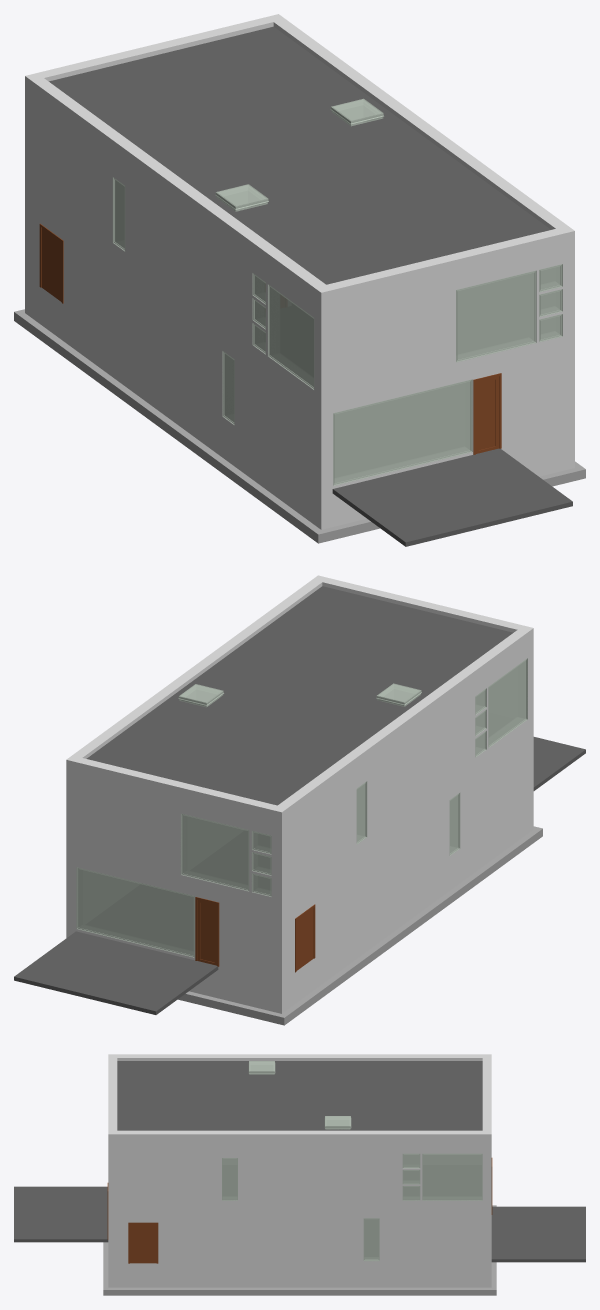
File: Duplex_A_20110907_optimized_OUT.dae
The picture shows the model from 3 angles, top to bottom: view 1: azimuth 30°, elevation 25°; view 2: azimuth 150°, elevation 25°; view 3: azimuth 270°, elevation 25°; orthographic projection. The views are drawn at different scales.
Parts seen in each view (by area): view 1: product-ddaca082-9edd-4829-a689-a1a58a1761d2-body, product-9808fd7f-dc48-478e-9217-628e833d7af9-body, product-9808fd7f-dc48-478e-9217-628e833d5659-body, product-9808fd7f-dc48-478e-9217-628e833d5611-body, product-4c8d2570-3244-4e75-8237-a4372a40e878-body, product-9808fd7f-dc48-478e-9217-628e833d7d42-body, product-9808fd7f-dc48-478e-9217-628e833d4385-body, product-6b61ce71-1a7a-473c-8f87-4262e0bdb2de-body, product-2da40d62-4698-436c-a2c3-95c49bb70d41-body, product-2da40d62-4698-436c-a2c3-95c49bb70ca4-body, product-6b61ce71-1a7a-473c-8f87-4262e0bdcfa0-body, product-2da40d62-4698-436c-a2c3-95c49bb70cfa-body (+12 smaller); view 2: product-ddaca082-9edd-4829-a689-a1a58a1761d2-body, product-9808fd7f-dc48-478e-9217-628e833d7af9-body, product-9808fd7f-dc48-478e-9217-628e833d5659-body, product-9808fd7f-dc48-478e-9217-628e833d568d-body, product-4c8d2570-3244-4e75-8237-a4372a40e82b-body, product-9808fd7f-dc48-478e-9217-628e833d7df1-body, product-9808fd7f-dc48-478e-9217-628e833d4385-body, product-6b61ce71-1a7a-473c-8f87-4262e0bdb1c2-body, product-2da40d62-4698-436c-a2c3-95c49bb70d41-body, product-2da40d62-4698-436c-a2c3-95c49bb70c3c-body, product-6b61ce71-1a7a-473c-8f87-4262e0bdc858-body, product-2e3c415a-d885-4964-a589-bb0941bdd177-body (+12 smaller); view 3: product-ddaca082-9edd-4829-a689-a1a58a1761d2-body, product-9808fd7f-dc48-478e-9217-628e833d7d12-body, product-9808fd7f-dc48-478e-9217-628e833d56c9-body, product-9808fd7f-dc48-478e-9217-628e833d4257-body, product-2da40d62-4698-436c-a2c3-95c49bb70cfa-body, product-4c8d2570-3244-4e75-8237-a4372a40e82b-body, product-4c8d2570-3244-4e75-8237-a4372a40e878-body, product-2e3c415a-d885-4964-a589-bb0941bdd167-body, product-6f010293-ddb7-4fe4-8ffd-c144d8444cde-body, product-2da40d62-4698-436c-a2c3-95c49bb70d41-body, product-6b61ce71-1a7a-473c-8f87-4262e0bdb41a-body, product-2da40d62-4698-436c-a2c3-95c49bb70c3c-body (+6 smaller).
Boxes of the visible parts, x1=… form: product-ddaca082-9edd-4829-a689-a1a58a1761d2-body: x1=49, y1=26, x2=550, y2=284; product-9808fd7f-dc48-478e-9217-628e833d7af9-body: x1=32, y1=187, x2=314, y2=486; product-9808fd7f-dc48-478e-9217-628e833d5659-body: x1=25, y1=94, x2=321, y2=398; product-9808fd7f-dc48-478e-9217-628e833d5611-body: x1=321, y1=249, x2=574, y2=398; product-4c8d2570-3244-4e75-8237-a4372a40e878-body: x1=332, y1=448, x2=572, y2=546; product-9808fd7f-dc48-478e-9217-628e833d7d42-body: x1=314, y1=340, x2=562, y2=491; product-9808fd7f-dc48-478e-9217-628e833d4385-body: x1=32, y1=281, x2=314, y2=524; product-6b61ce71-1a7a-473c-8f87-4262e0bdb2de-body: x1=333, y1=379, x2=472, y2=486; product-2da40d62-4698-436c-a2c3-95c49bb70d41-body: x1=32, y1=78, x2=325, y2=305; product-2da40d62-4698-436c-a2c3-95c49bb70ca4-body: x1=314, y1=229, x2=562, y2=310; product-6b61ce71-1a7a-473c-8f87-4262e0bdcfa0-body: x1=456, y1=270, x2=536, y2=362; product-2da40d62-4698-436c-a2c3-95c49bb70cfa-body: x1=273, y1=19, x2=574, y2=251; product-ddaca082-9edd-4829-a689-a1a58a1761d2-body: x1=86, y1=586, x2=513, y2=805; product-9808fd7f-dc48-478e-9217-628e833d7af9-body: x1=287, y1=722, x2=527, y2=977; product-9808fd7f-dc48-478e-9217-628e833d5659-body: x1=282, y1=644, x2=533, y2=901; product-9808fd7f-dc48-478e-9217-628e833d568d-body: x1=66, y1=775, x2=281, y2=902; product-4c8d2570-3244-4e75-8237-a4372a40e82b-body: x1=14, y1=931, x2=218, y2=1014; product-9808fd7f-dc48-478e-9217-628e833d7df1-body: x1=66, y1=850, x2=287, y2=981; product-9808fd7f-dc48-478e-9217-628e833d4385-body: x1=287, y1=802, x2=527, y2=1009; product-6b61ce71-1a7a-473c-8f87-4262e0bdb1c2-body: x1=76, y1=867, x2=194, y2=957; product-2da40d62-4698-436c-a2c3-95c49bb70d41-body: x1=278, y1=630, x2=527, y2=823; product-2da40d62-4698-436c-a2c3-95c49bb70c3c-body: x1=66, y1=755, x2=287, y2=827; product-6b61ce71-1a7a-473c-8f87-4262e0bdc858-body: x1=180, y1=813, x2=249, y2=891; product-2e3c415a-d885-4964-a589-bb0941bdd177-body: x1=262, y1=836, x2=530, y2=1025; product-ddaca082-9edd-4829-a689-a1a58a1761d2-body: x1=117, y1=1061, x2=482, y2=1130; product-9808fd7f-dc48-478e-9217-628e833d7d12-body: x1=108, y1=1202, x2=482, y2=1263; product-9808fd7f-dc48-478e-9217-628e833d56c9-body: x1=108, y1=1146, x2=491, y2=1202; product-9808fd7f-dc48-478e-9217-628e833d4257-body: x1=108, y1=1263, x2=482, y2=1287; product-2da40d62-4698-436c-a2c3-95c49bb70cfa-body: x1=108, y1=1130, x2=482, y2=1146; product-4c8d2570-3244-4e75-8237-a4372a40e82b-body: x1=491, y1=1206, x2=585, y2=1262; product-4c8d2570-3244-4e75-8237-a4372a40e878-body: x1=14, y1=1186, x2=108, y2=1242; product-2e3c415a-d885-4964-a589-bb0941bdd167-body: x1=103, y1=1281, x2=496, y2=1295; product-6f010293-ddb7-4fe4-8ffd-c144d8444cde-body: x1=422, y1=1153, x2=482, y2=1200; product-2da40d62-4698-436c-a2c3-95c49bb70d41-body: x1=117, y1=1054, x2=482, y2=1060; product-6b61ce71-1a7a-473c-8f87-4262e0bdb41a-body: x1=128, y1=1222, x2=158, y2=1263; product-2da40d62-4698-436c-a2c3-95c49bb70c3c-body: x1=482, y1=1054, x2=491, y2=1146.
Size of the model in its own units: 9.28 by 26.57 by 8.18.
